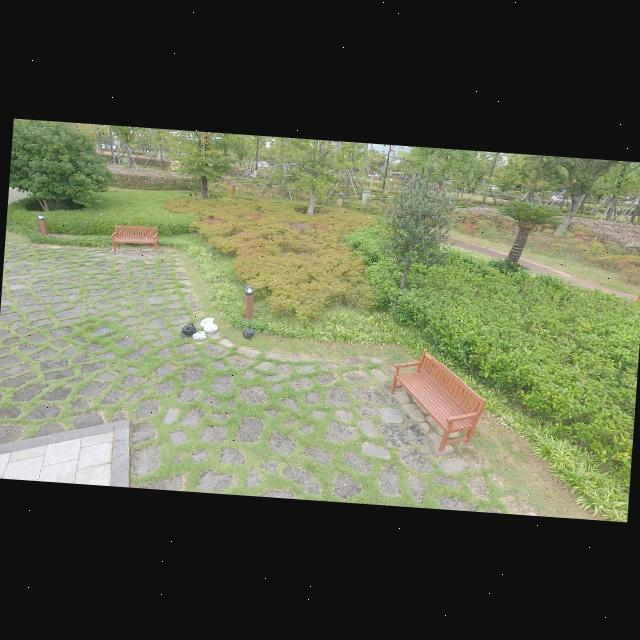trash: (180, 321, 197, 337), (240, 326, 256, 342), (201, 320, 219, 334), (190, 329, 208, 342), (199, 316, 216, 328)
